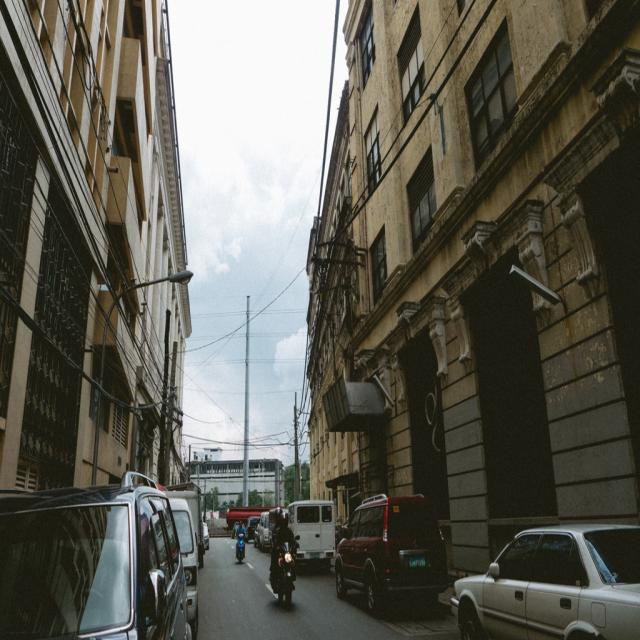car: (450, 524, 639, 638), (331, 491, 449, 616)
